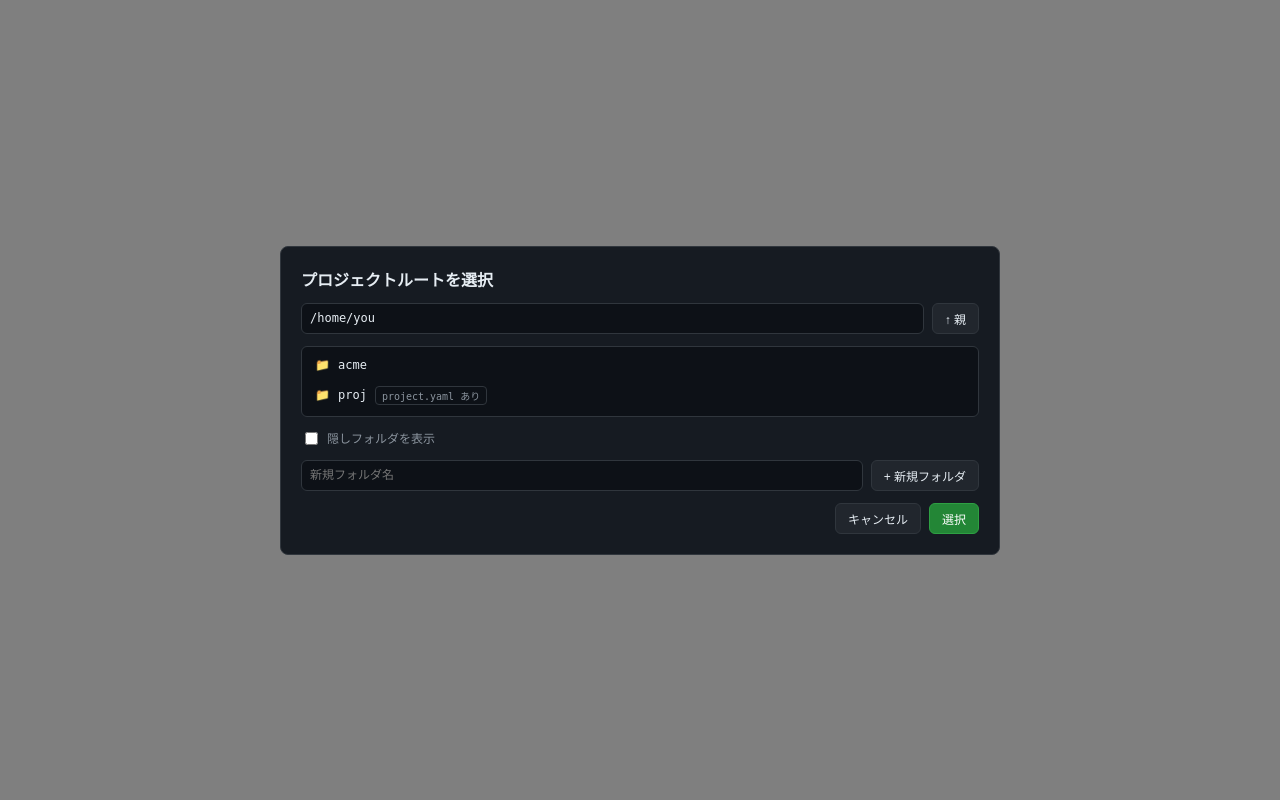
Test: FolderBrowserDialog › 隠しフォルダはデフォルト非表示、トグルで表示
Check: the button "📁 acme" is shown, box [306,350,974,378]
Check: the text ".ssh" is not shown
Click the checkbox labelled "隠しフォルダを表示". click: (312, 438)
box: [305,432,318,444]
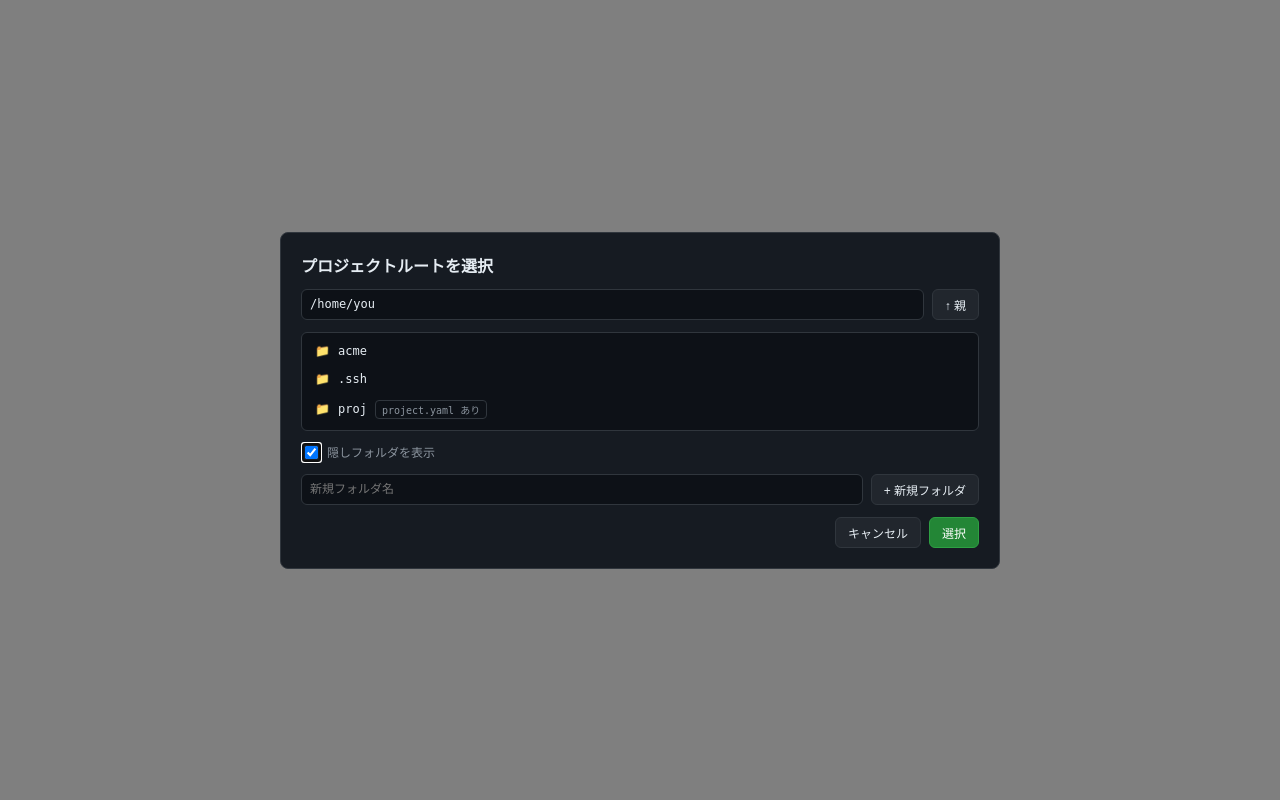
Check: the button "📁 .ssh" is shown, box [306,364,974,392]
